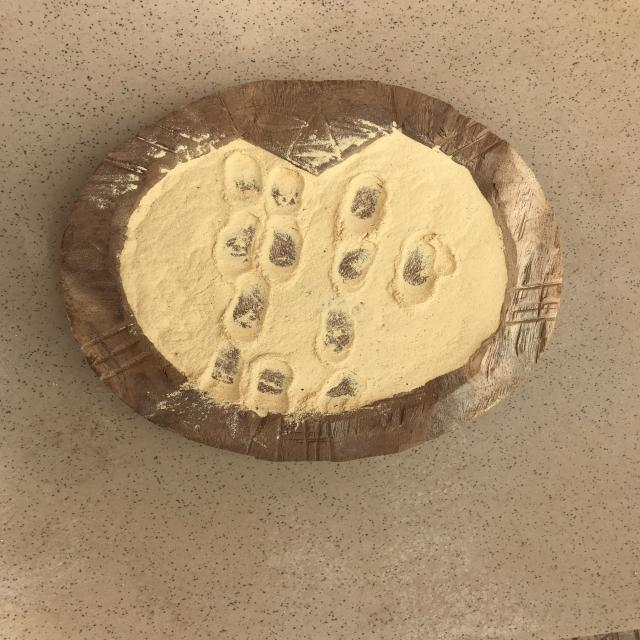double: (333, 235, 451, 308), (215, 212, 308, 282), (208, 346, 298, 408), (220, 152, 306, 216)
single: (220, 275, 272, 348), (336, 171, 388, 240), (316, 304, 358, 364), (319, 364, 364, 408)
